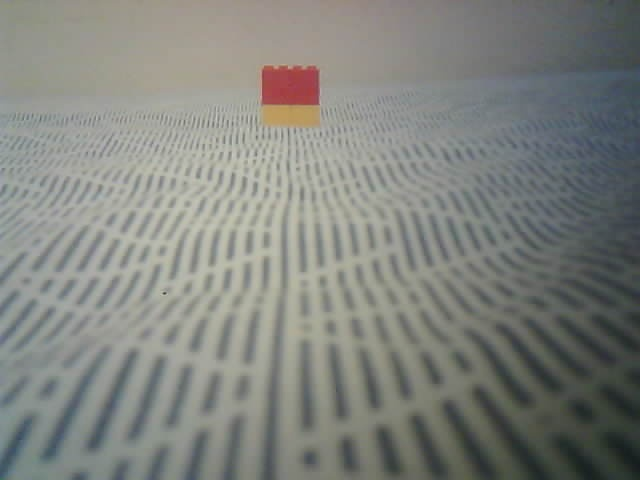lego: (259, 63, 320, 129)
